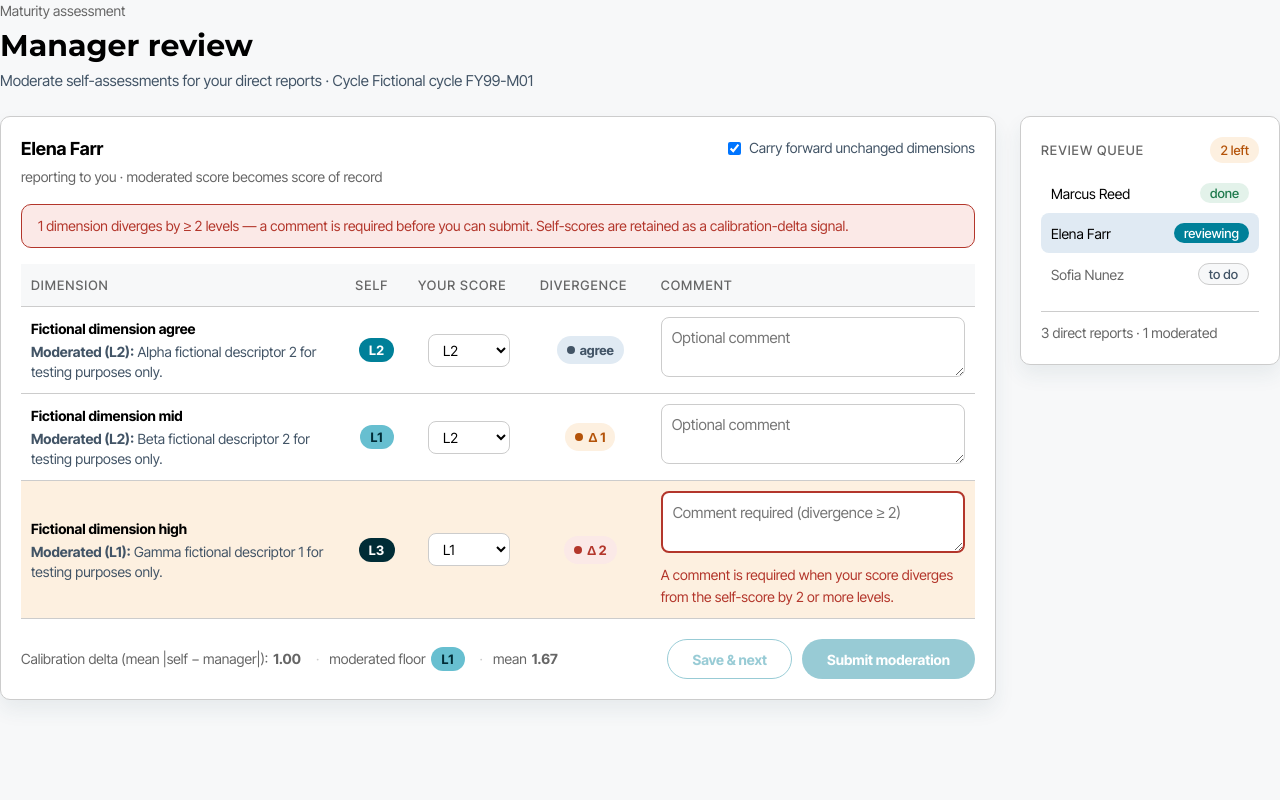
Test: AssessmentModerationScreen (HAP-9; FR-008/009/010/011/063/069) › submits the moderation decisions and shows a success confirmation
Expected: the text "Fictional dimension high" is shown, [31,520,187,536]
Type "Evidence reviewed — moderating from L3 self-score to L1." into the text box with placeholder "Comment required (divergence ≥ 2)" at (813, 522), box [661,491,965,553]
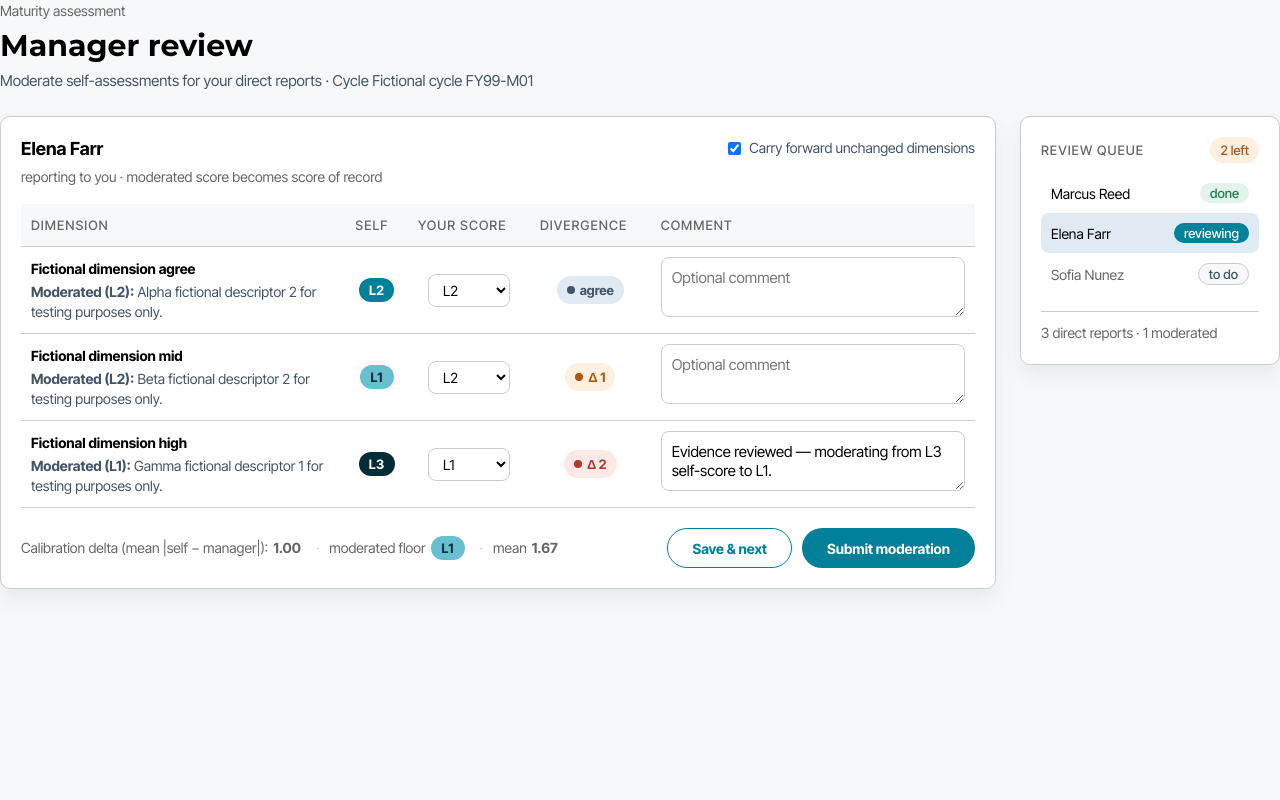
Expected: the button "Submit moderation" is enabled
Click the button "Submit moderation" at (888, 548), box [802,528,975,568]
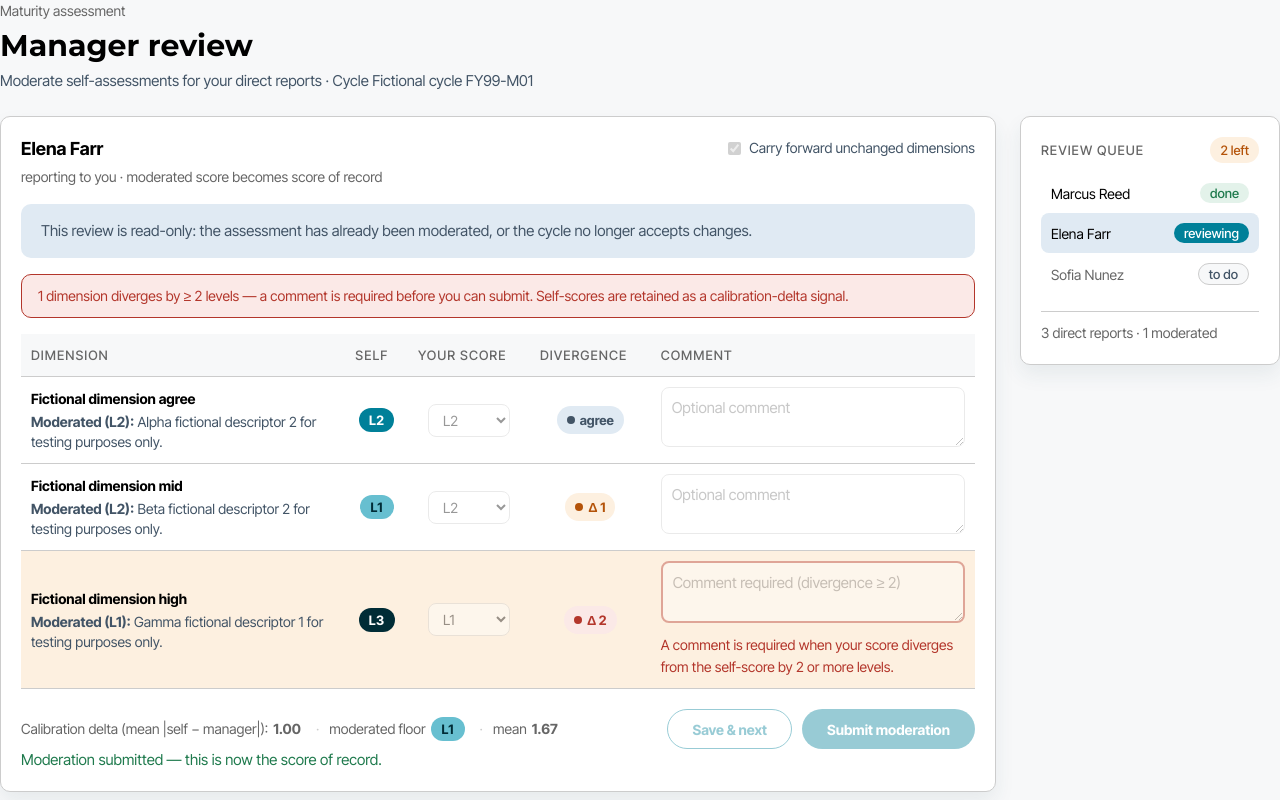
Expected: the text "Moderation submitted — this is now the score of record." is shown, [21,750,382,769]
